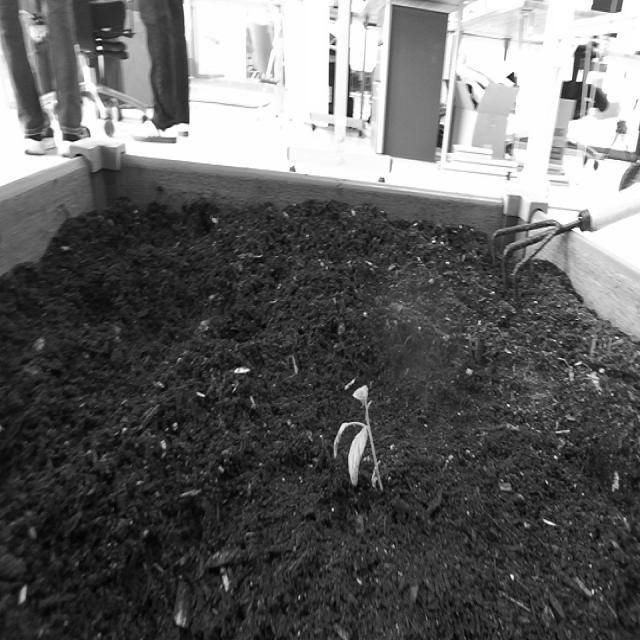Healthy: (326, 371, 393, 505)
